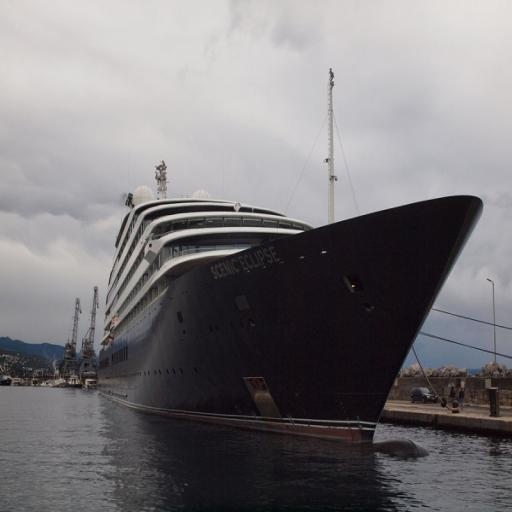cruises: (96, 158, 488, 469)
